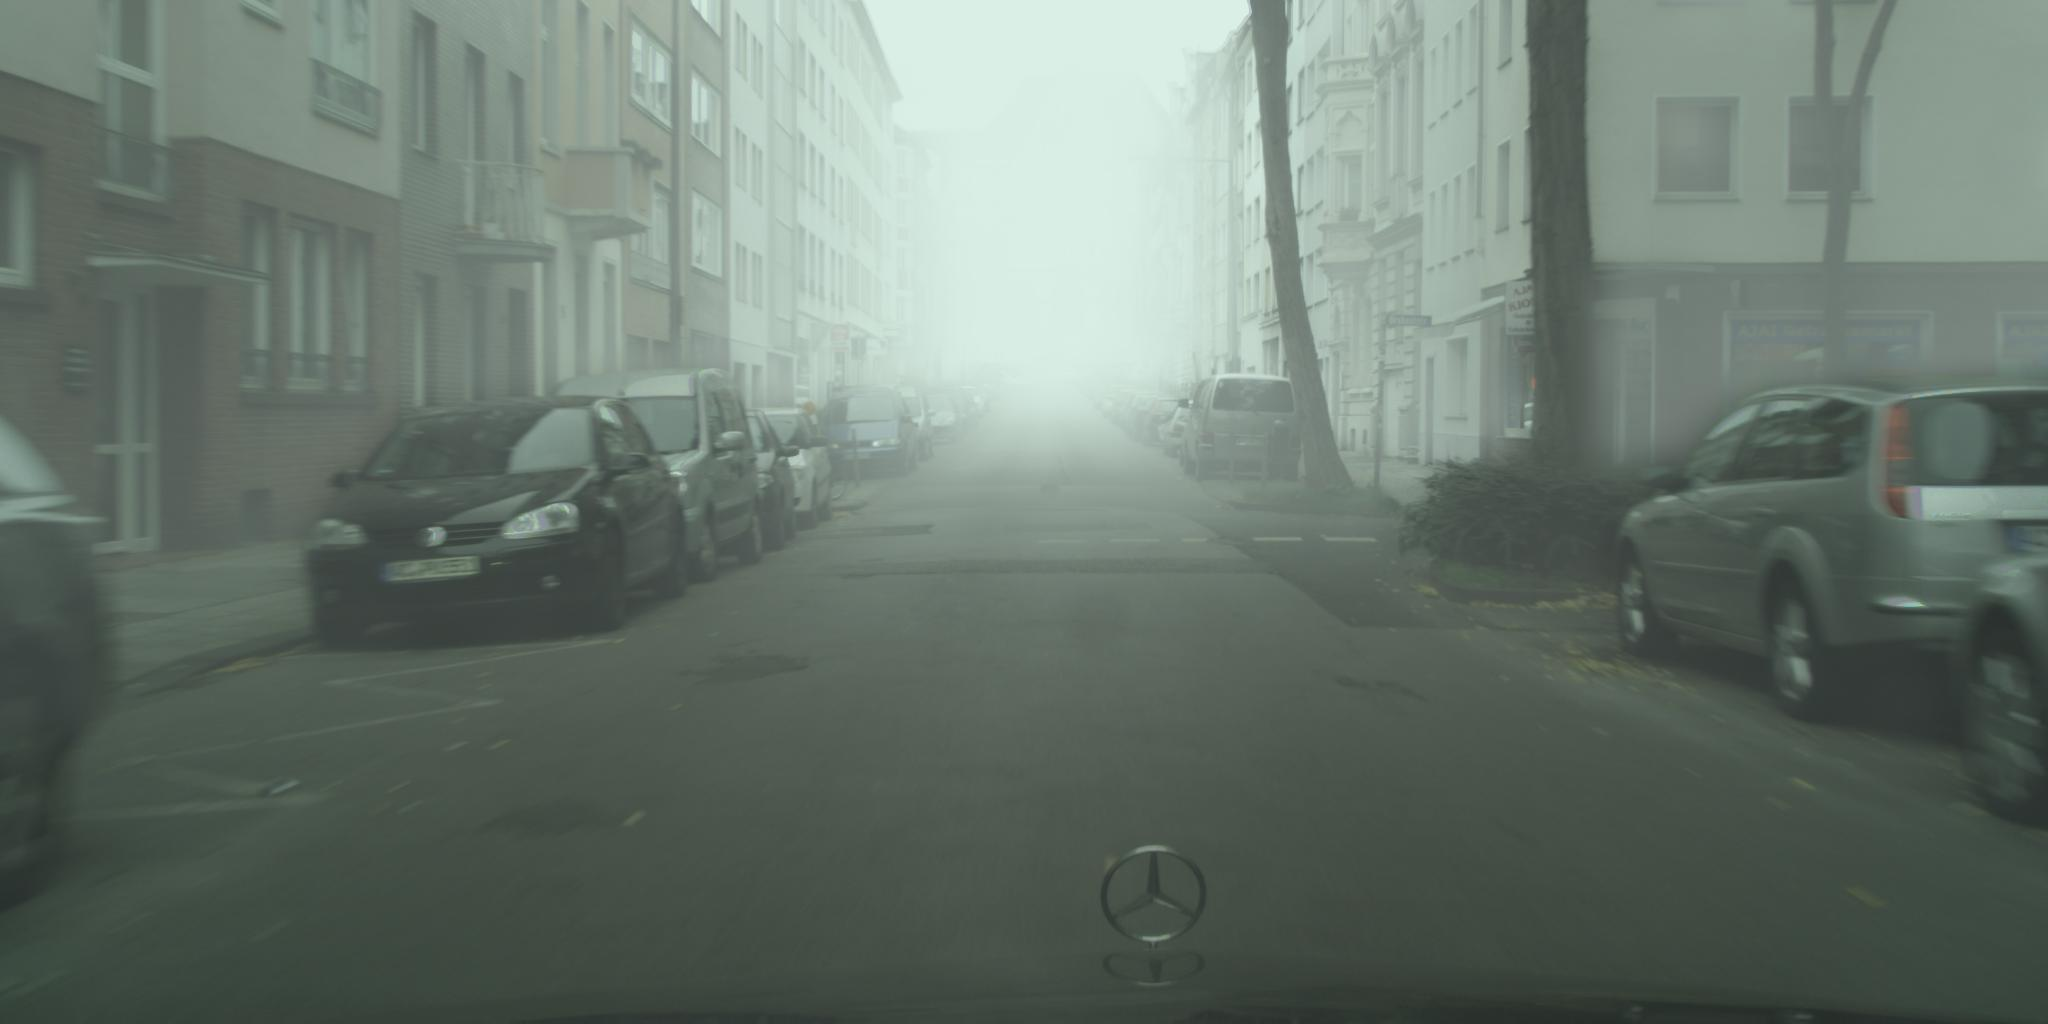bicycle: (773, 401, 850, 502)
car: (1609, 375, 2048, 724), (296, 394, 690, 653), (1, 404, 127, 916), (538, 367, 765, 586), (1944, 546, 2048, 832), (1177, 374, 1304, 483), (806, 376, 921, 479), (748, 408, 835, 532), (730, 408, 802, 552), (882, 384, 940, 462), (1138, 397, 1196, 449), (916, 387, 974, 438), (916, 392, 965, 445), (1162, 400, 1206, 458), (1125, 394, 1176, 441), (1122, 392, 1176, 436), (1128, 396, 1172, 441), (1110, 388, 1156, 426), (1102, 383, 1142, 421), (1115, 391, 1155, 428), (1093, 376, 1130, 411), (957, 383, 995, 415), (957, 384, 990, 421), (1083, 374, 1121, 404), (1179, 411, 1196, 468), (972, 375, 1004, 404), (1042, 366, 1085, 387), (959, 391, 980, 430), (1108, 363, 1142, 387), (974, 371, 1007, 394), (1080, 370, 1108, 396), (1076, 363, 1101, 391), (995, 367, 1029, 387)
